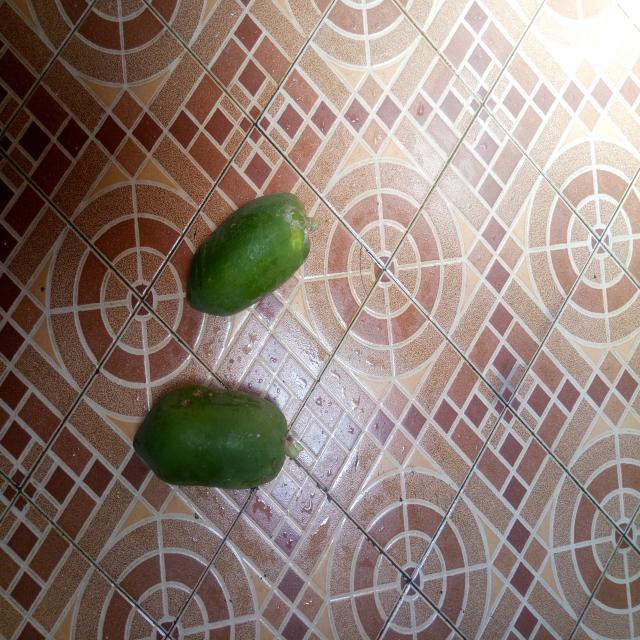Pepaya unrippen: (118, 377, 300, 492), (176, 195, 316, 320)
